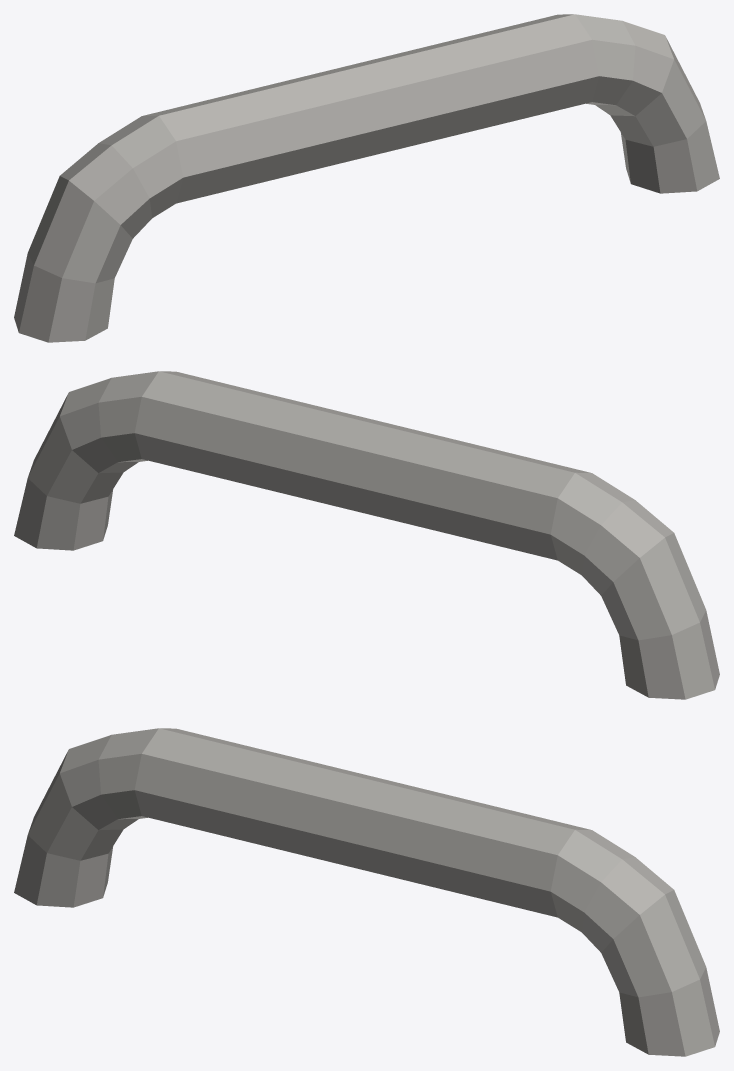
The model's file is HousePart_08.fbx.
3 views of the same model, one above another, from view 1: azimuth 30°, elevation 25°; view 2: azimuth 150°, elevation 25°; view 3: azimuth 330°, elevation 25° (orthographic).
Parts seen in each view (by area): view 1: HousePart_08; view 2: HousePart_08; view 3: HousePart_08.
Part boxes in pixels (x1,y1,x2,y2): HousePart_08: [14, 14, 719, 342]; HousePart_08: [14, 371, 719, 699]; HousePart_08: [14, 728, 719, 1056].
Size of the model in its own units: 4.06 by 1.02 by 0.4916.
